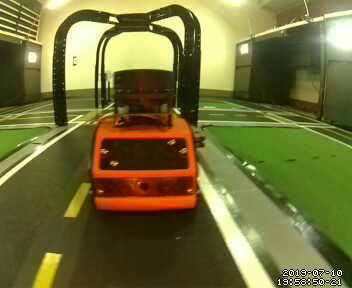pheeno: (86, 69, 203, 216)
